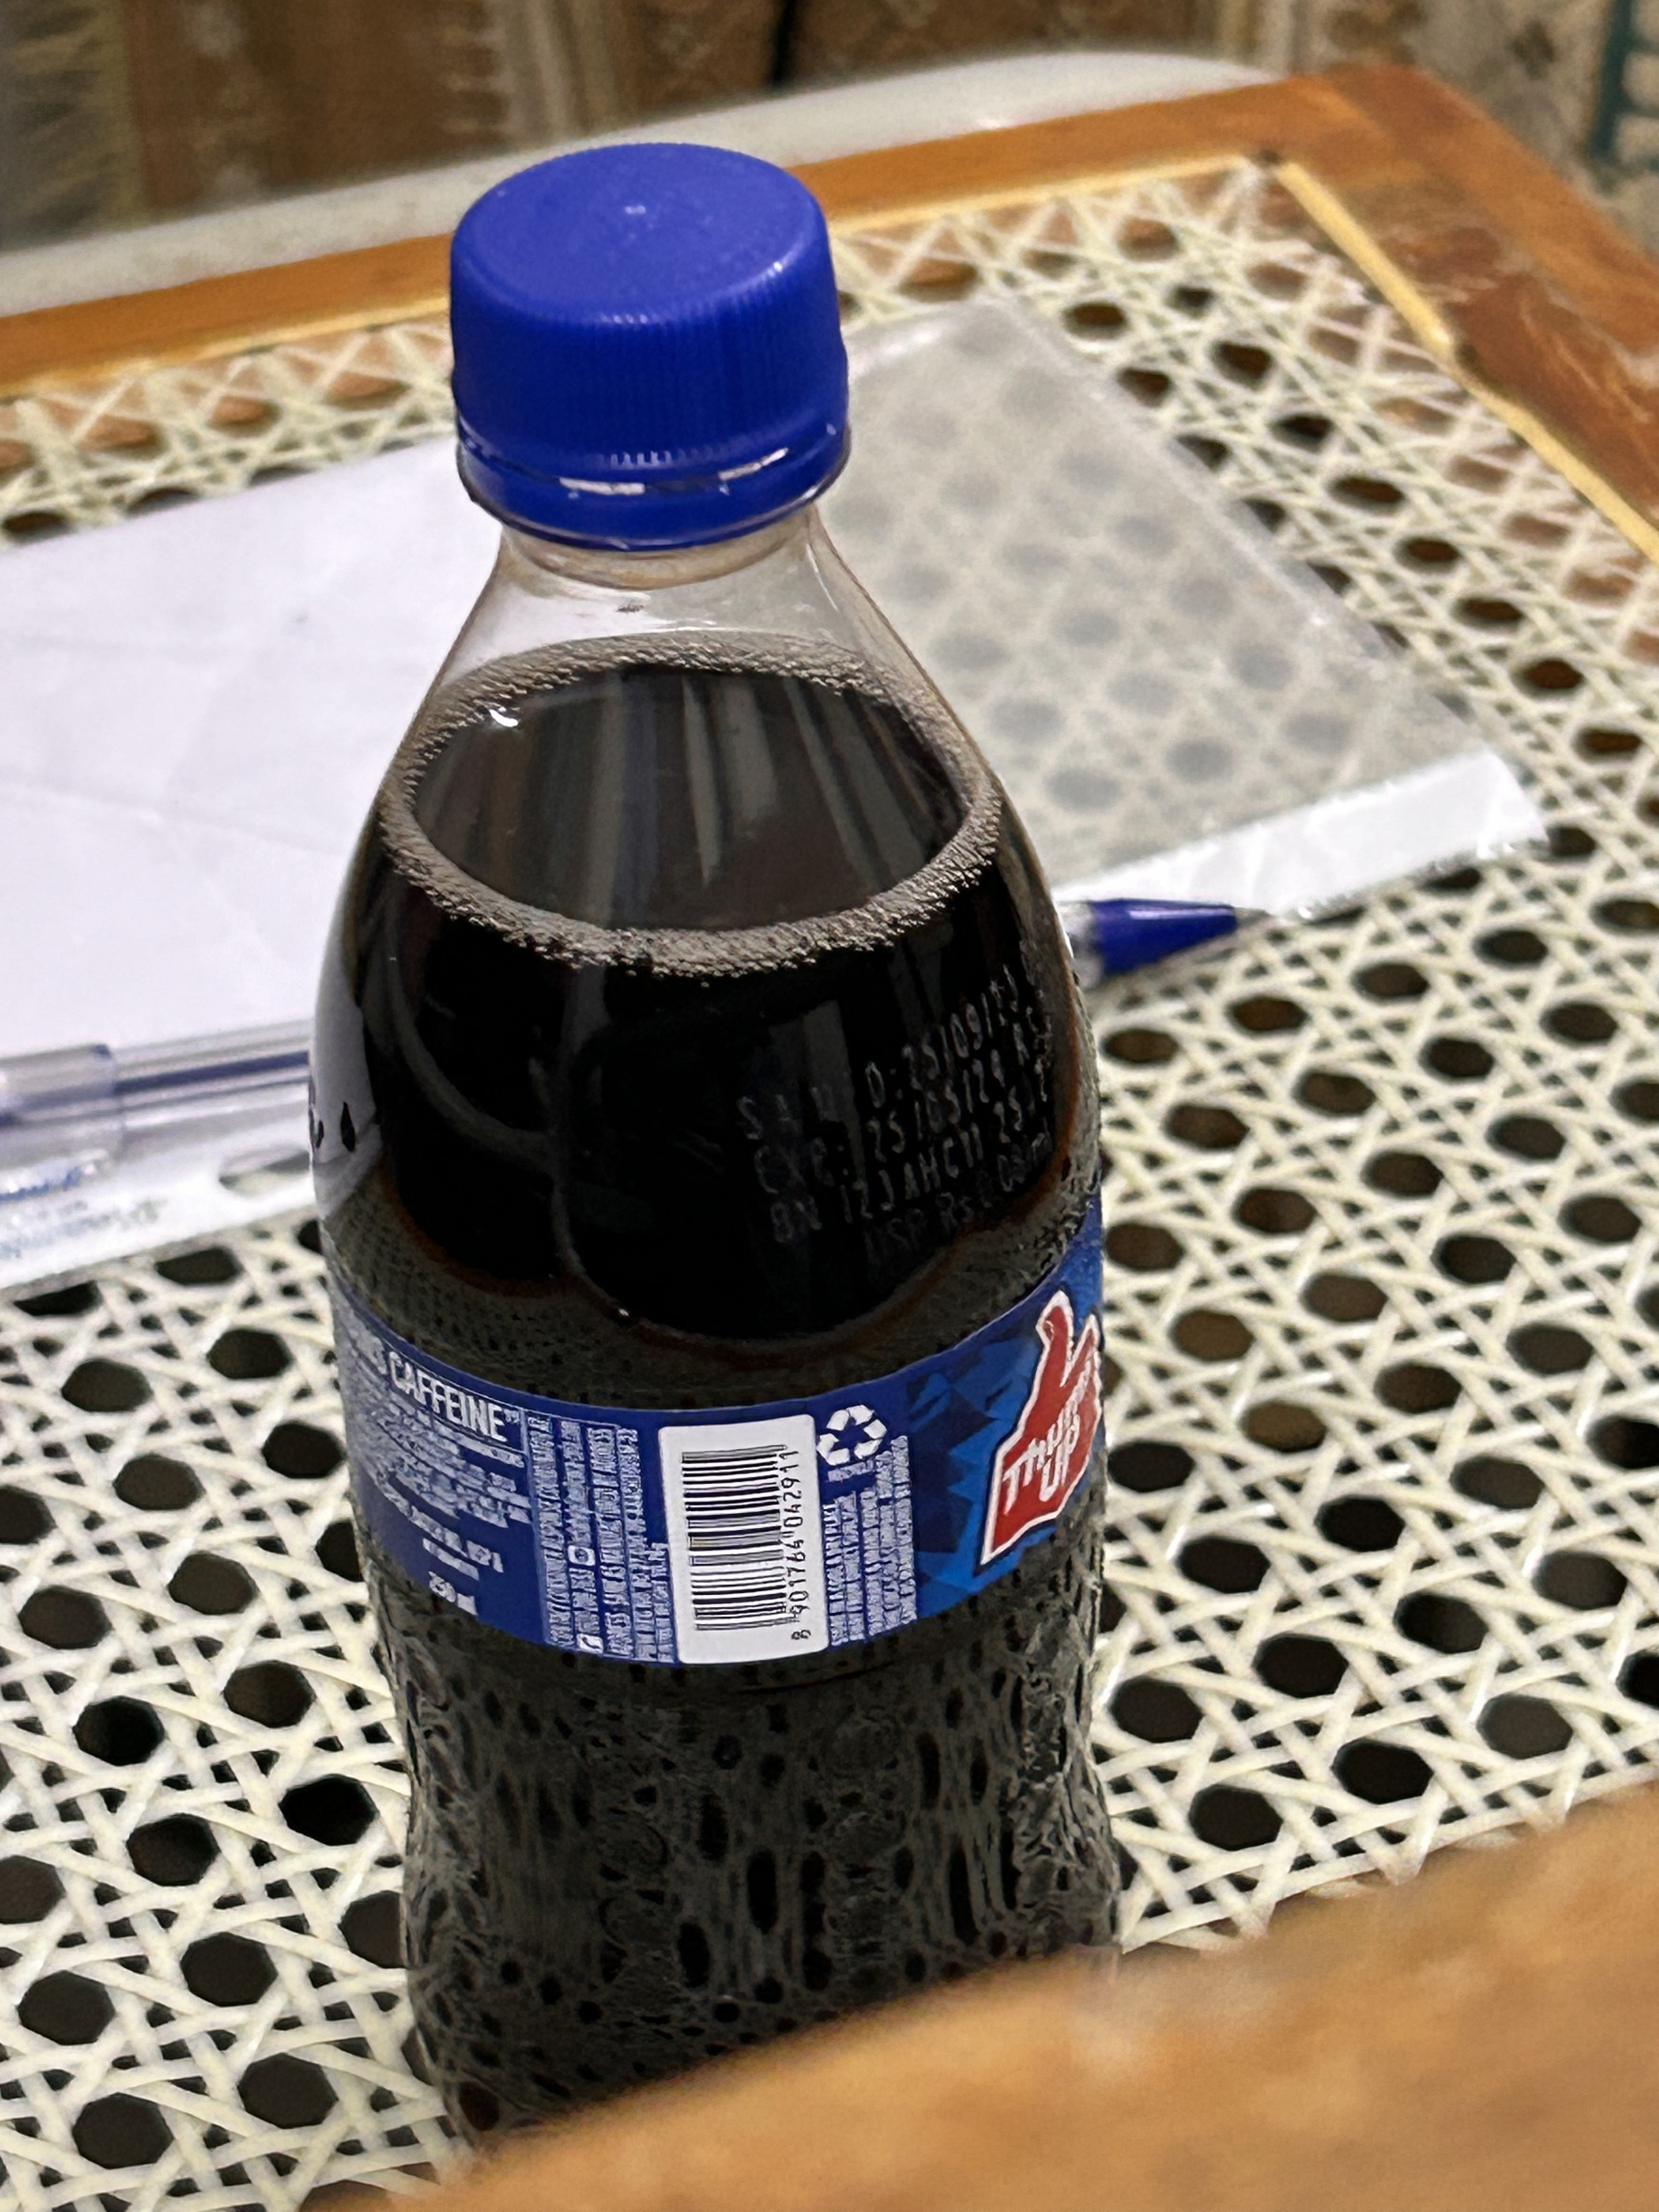unsealed: (444, 150, 875, 577)
